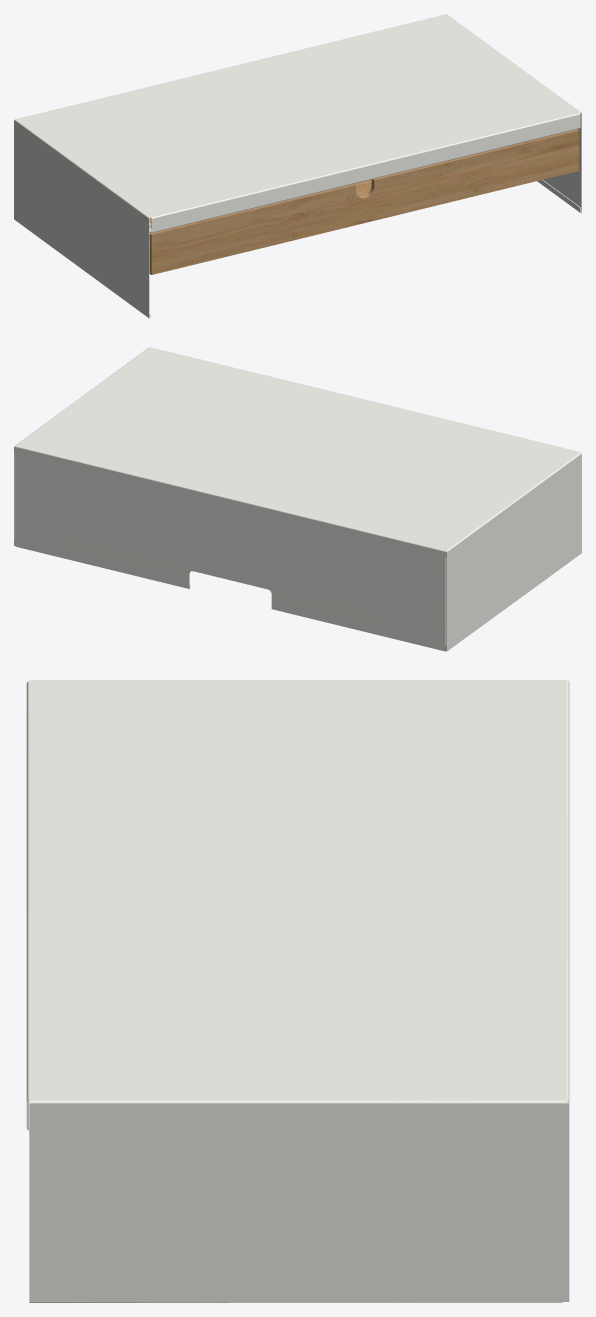
Rendered from ELLOVEN_50474770.glb.
3 renders of one model, top to bottom at view 1: azimuth 30°, elevation 25°; view 2: azimuth 150°, elevation 25°; view 3: azimuth 270°, elevation 25°, orthographic. The views are drawn at different scales.
Parts seen in each view (by area): view 1: model; view 2: model; view 3: model.
Part boxes in pixels (box(x1,y1,x2,y2)): model: box(14, 14, 581, 318); model: box(14, 347, 581, 651); model: box(26, 680, 569, 1302).
Bounding box in the file's own units: 0.473 × 0.1054 × 0.2566.
Materials: 1 (1 with a texture image).
